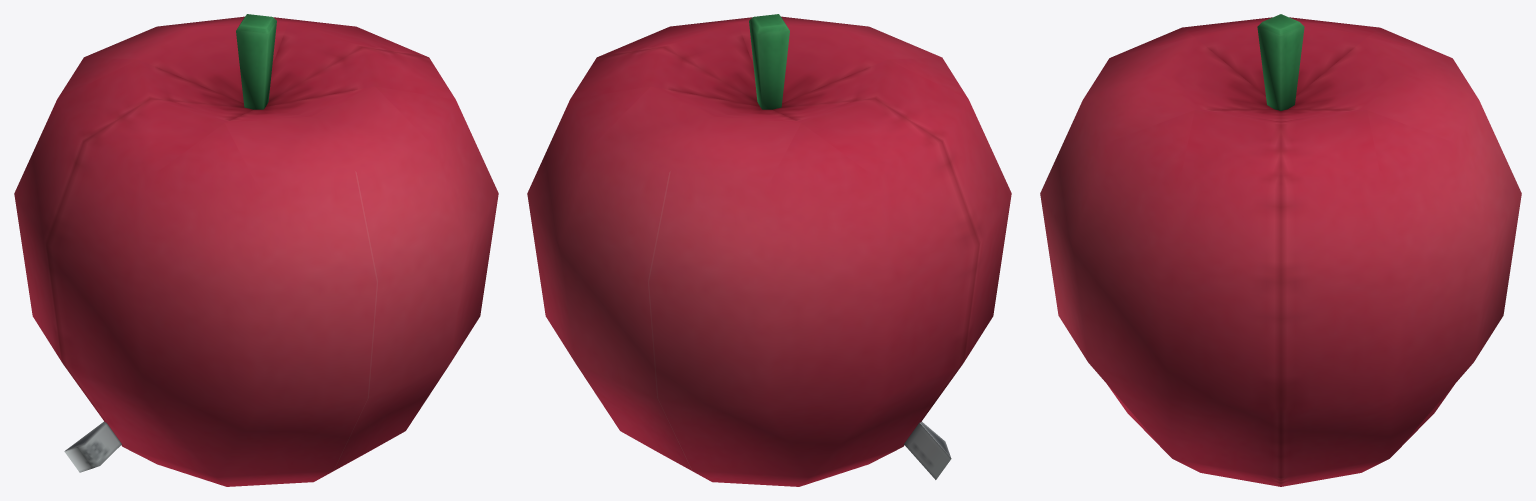
File: jsf_Figure_02.fbx
3 views of the same model, side by side, from view 1: azimuth 30°, elevation 25°; view 2: azimuth 150°, elevation 25°; view 3: azimuth 270°, elevation 25° (orthographic).
Parts seen in each view (by area): view 1: jsf_Figure_02; view 2: jsf_Figure_02; view 3: jsf_Figure_02.
Part boxes in pixels (<box>): jsf_Figure_02: <box>14,14,498,486</box>; jsf_Figure_02: <box>527,14,1011,486</box>; jsf_Figure_02: <box>1040,14,1521,486</box>.
Bounding box in the file's own units: 13.47 × 12.86 × 13.47.
